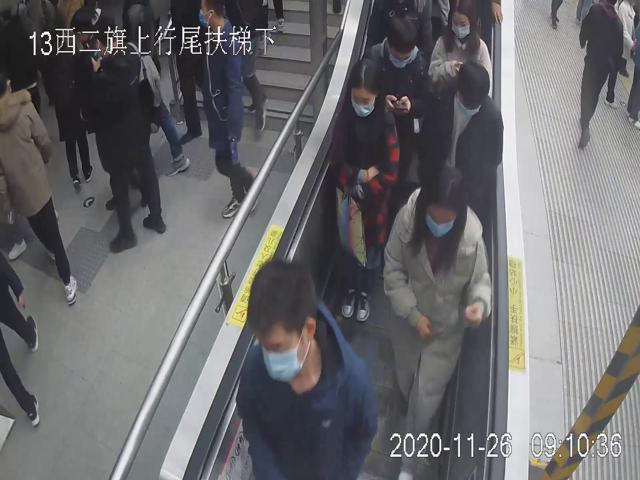person: (382, 165, 493, 480), (235, 256, 380, 480), (327, 56, 400, 322), (417, 61, 506, 223), (363, 15, 427, 185), (426, 0, 493, 107)
